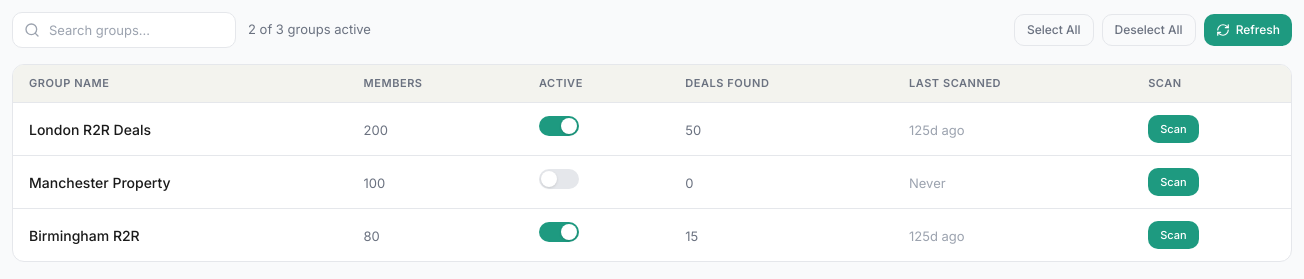
Test: GroupManager › filters groups by search
The image size is (1304, 279).
In the field with placeholder "Search groups...": x=124, y=30 [12, 12, 236, 48], type "London"
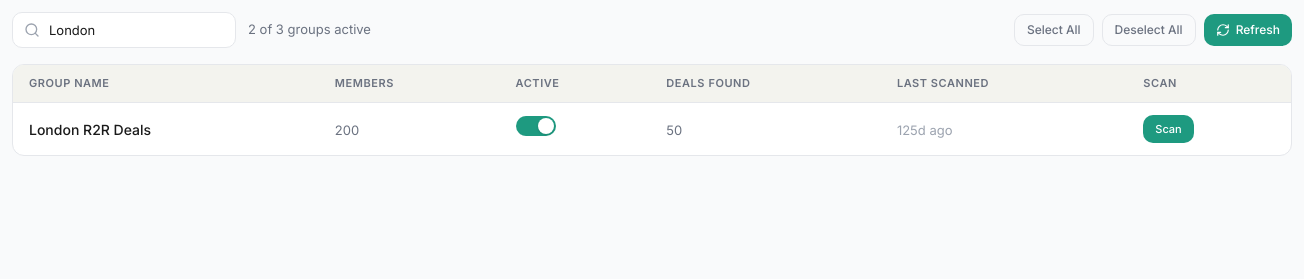
Expected: the text "London R2R Deals" is shown, [29, 121, 151, 138]
Result: the text "Manchester Property" is gone
Result: the text "Birmingham R2R" is gone
